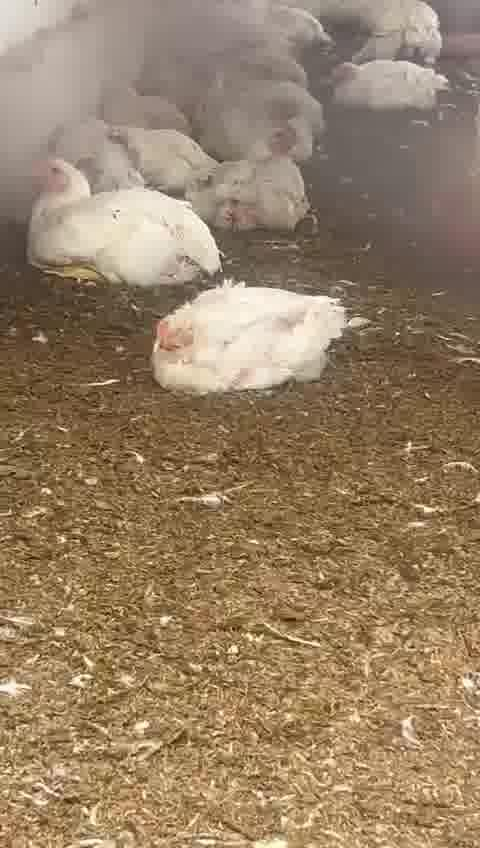AbNormal: (34, 162, 217, 284), (155, 290, 341, 389), (182, 157, 306, 233), (335, 62, 447, 112)
